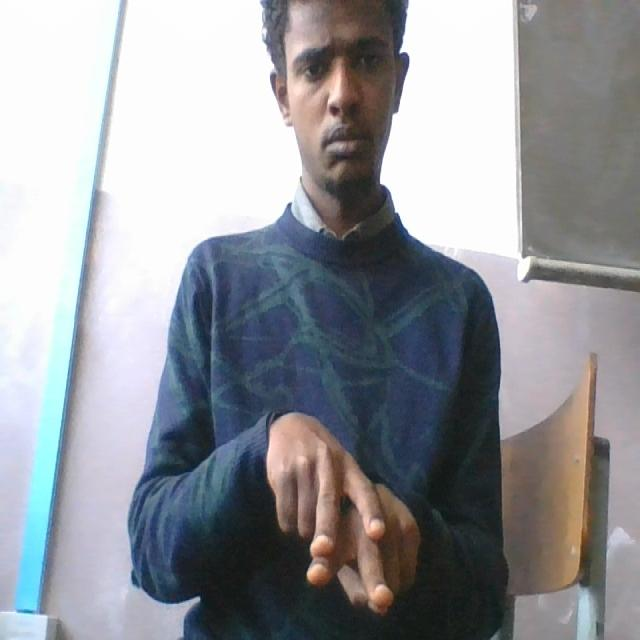babur: (263, 408, 427, 632)
